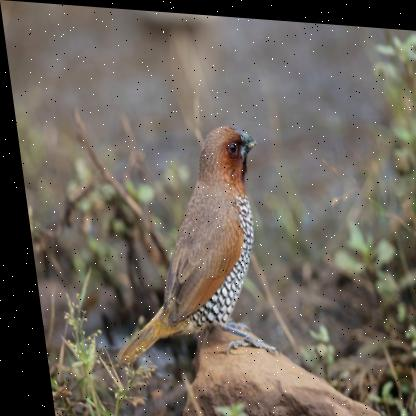Burung: (80, 113, 277, 372)
